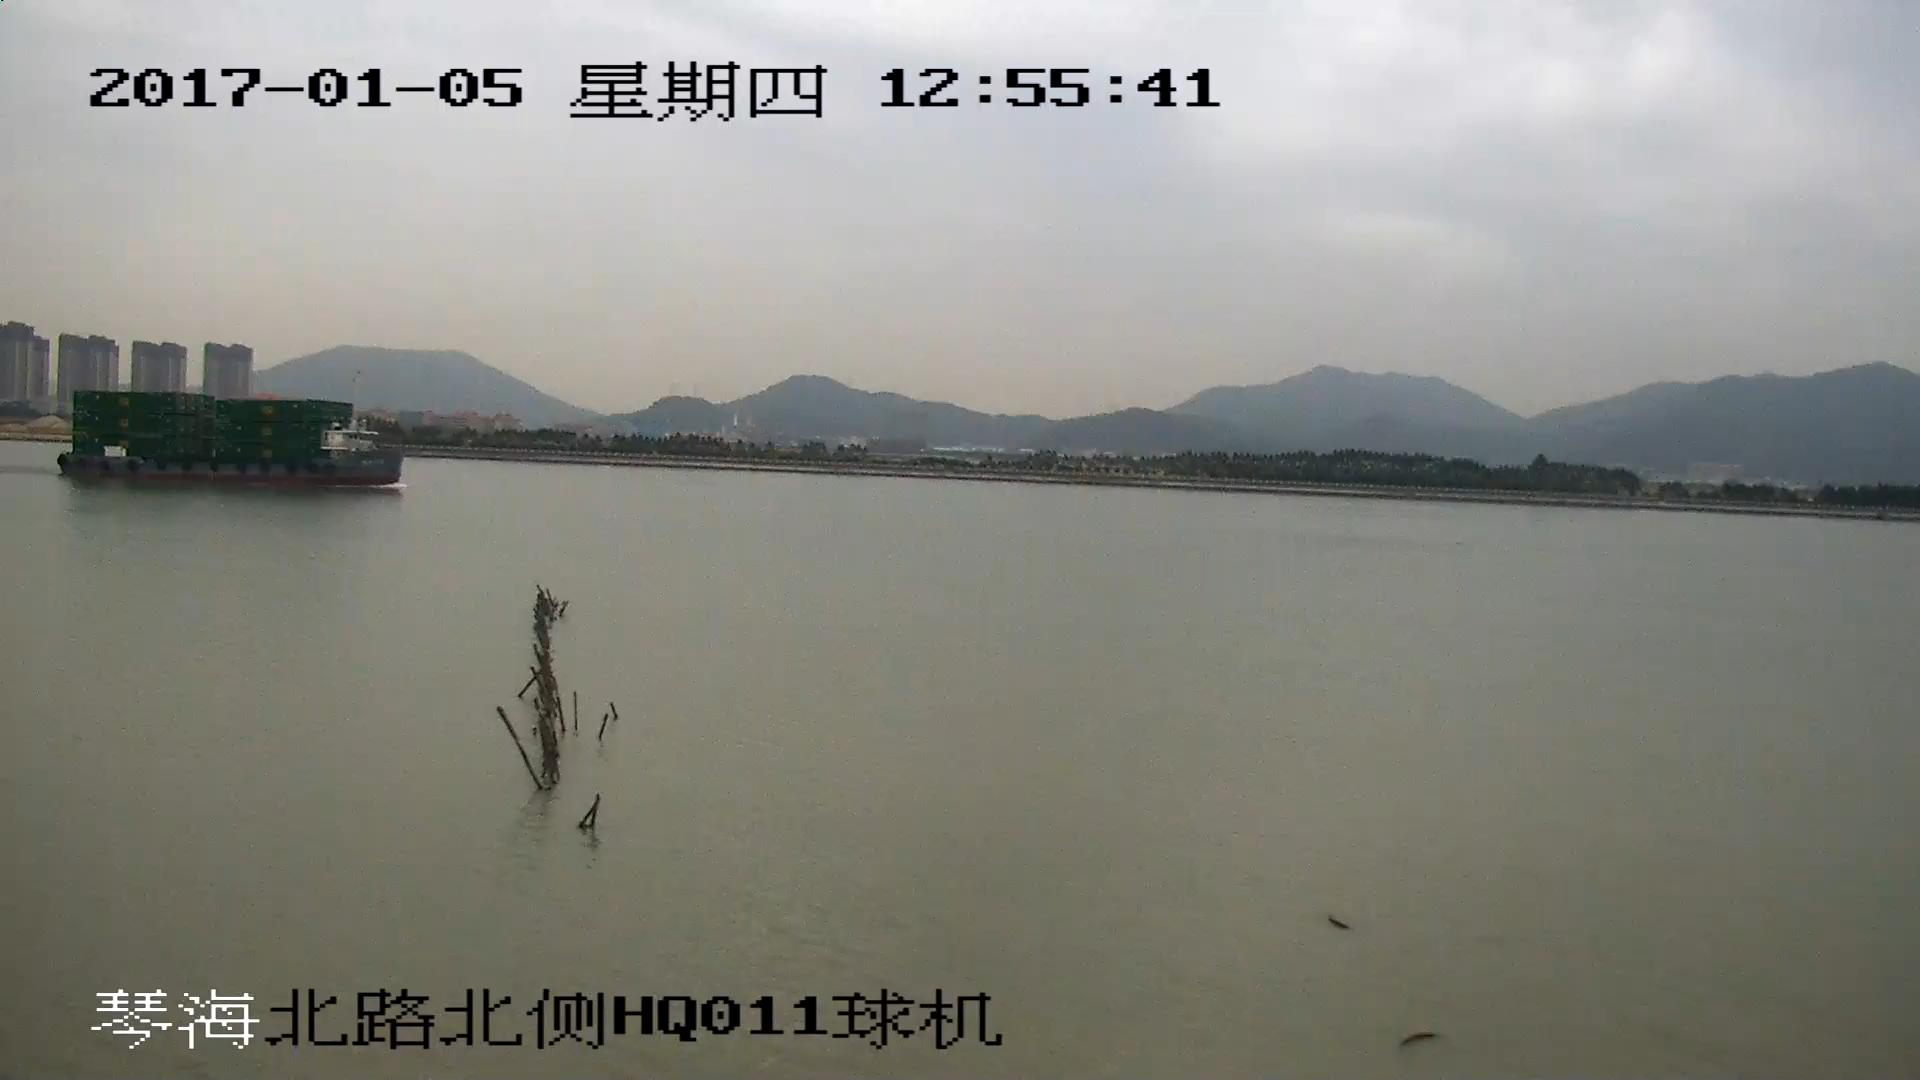container ship: (58, 394, 403, 486)
